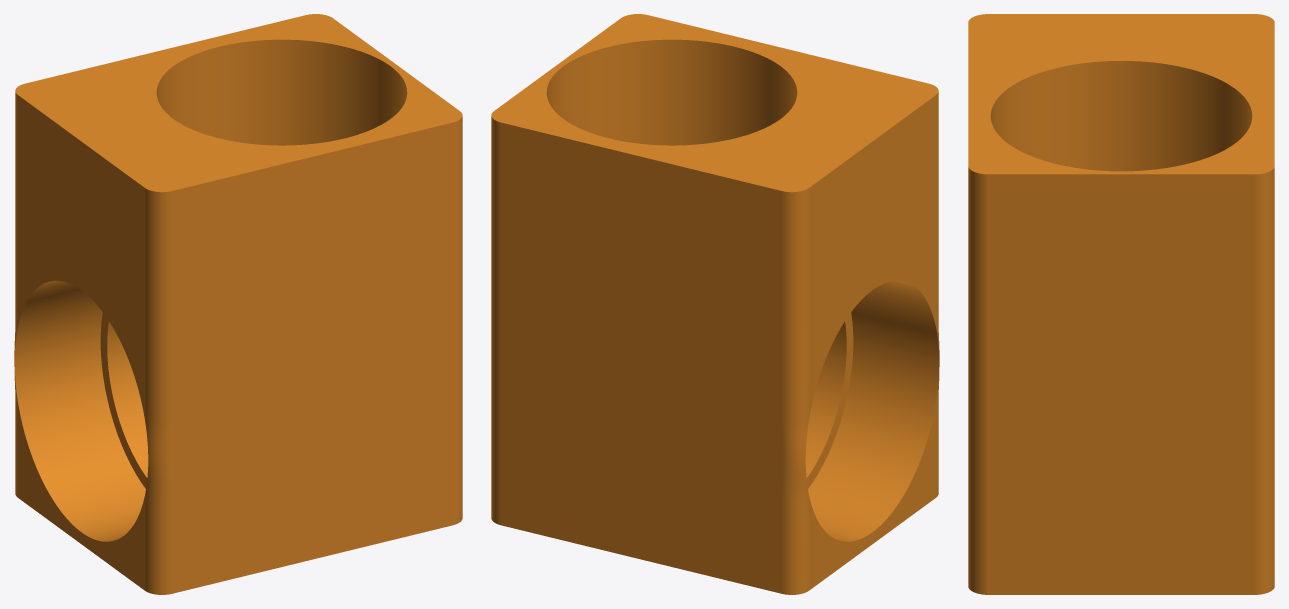
Rendered from mag_entrada.glb.
3 renders of one model, left to right at view 1: azimuth 30°, elevation 25°; view 2: azimuth 150°, elevation 25°; view 3: azimuth 270°, elevation 25°, orthographic. The views are drawn at different scales.
Visible parts, largest first — view 1: mag_entrada; view 2: mag_entrada; view 3: mag_entrada.
Boxes of the visible parts, x1=… form: mag_entrada: x1=14, y1=14, x2=462, y2=594; mag_entrada: x1=491, y1=14, x2=939, y2=594; mag_entrada: x1=968, y1=14, x2=1274, y2=594.
Bounding box in the file's own units: 55 × 67.2 × 44.4.
